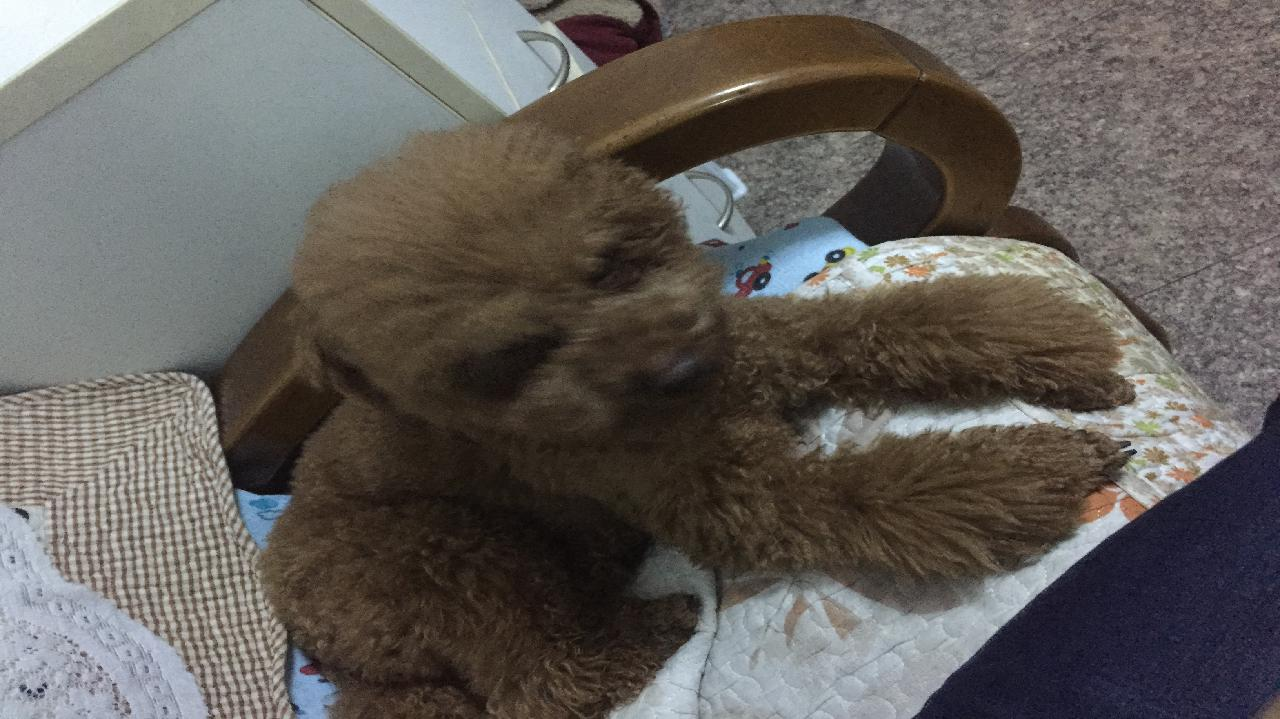zhuangzhuang: (272, 126, 1131, 719)
